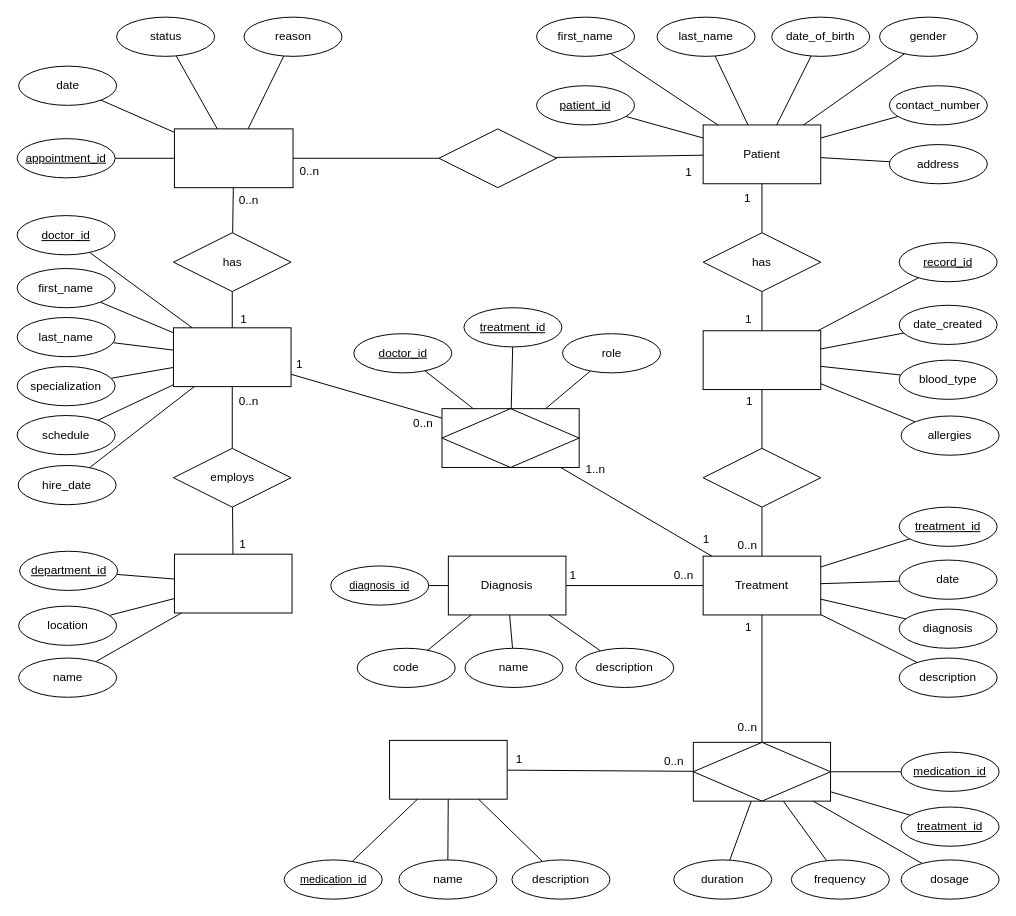
This 1016x916 diagram has some shape labels left out. The centre of each missing label's shape, as x and y in pixels:
Appointment: (x=233, y=158)
contains: (x=761, y=477)
Department: (x=232, y=583)
Doctor: (x=231, y=357)
MedicalRecord: (x=761, y=360)
MedicalTeam: (x=510, y=437)
Medication: (x=448, y=769)
Prescription: (x=761, y=771)
schedules: (x=497, y=158)
